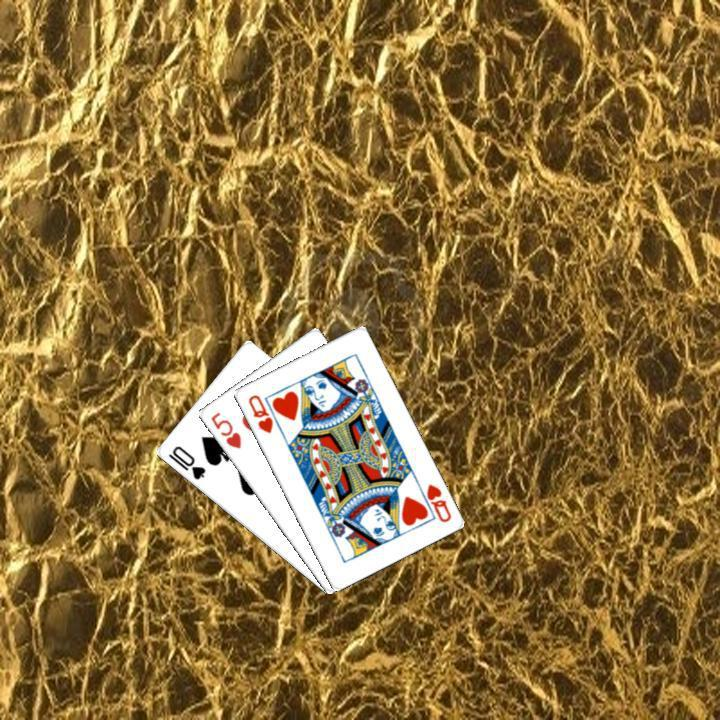10: (163, 441, 207, 482)
5: (206, 407, 243, 450)
Q: (412, 479, 453, 524), (243, 390, 275, 435)
